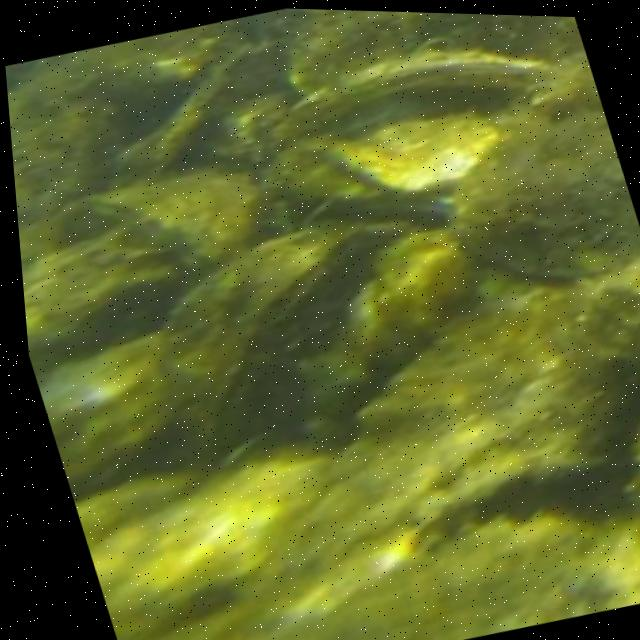Oyster-Closed: (156, 221, 368, 456), (55, 164, 264, 271)
Oyster-Indeterminate: (248, 515, 640, 640), (446, 49, 640, 278), (289, 51, 551, 132), (292, 10, 572, 81)
